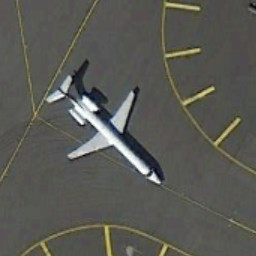Airplane: (41, 63, 172, 189)
